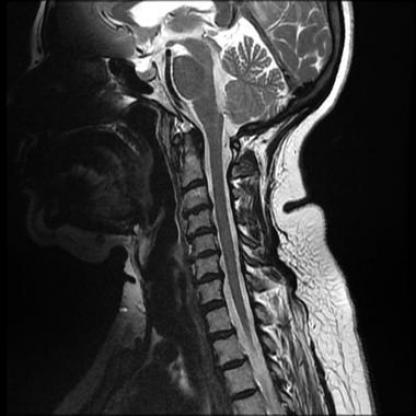Disc Protrusionrotation: (186, 226, 218, 241), (192, 272, 224, 286), (188, 249, 221, 262), (182, 204, 213, 217)
Osteophytesrotation: (185, 226, 217, 241), (192, 272, 224, 286), (188, 249, 221, 262), (182, 204, 213, 216)
